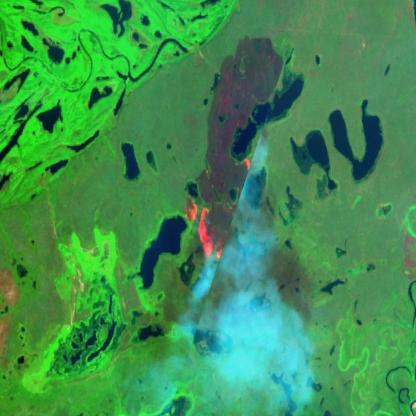fire: (183, 156, 252, 260)
